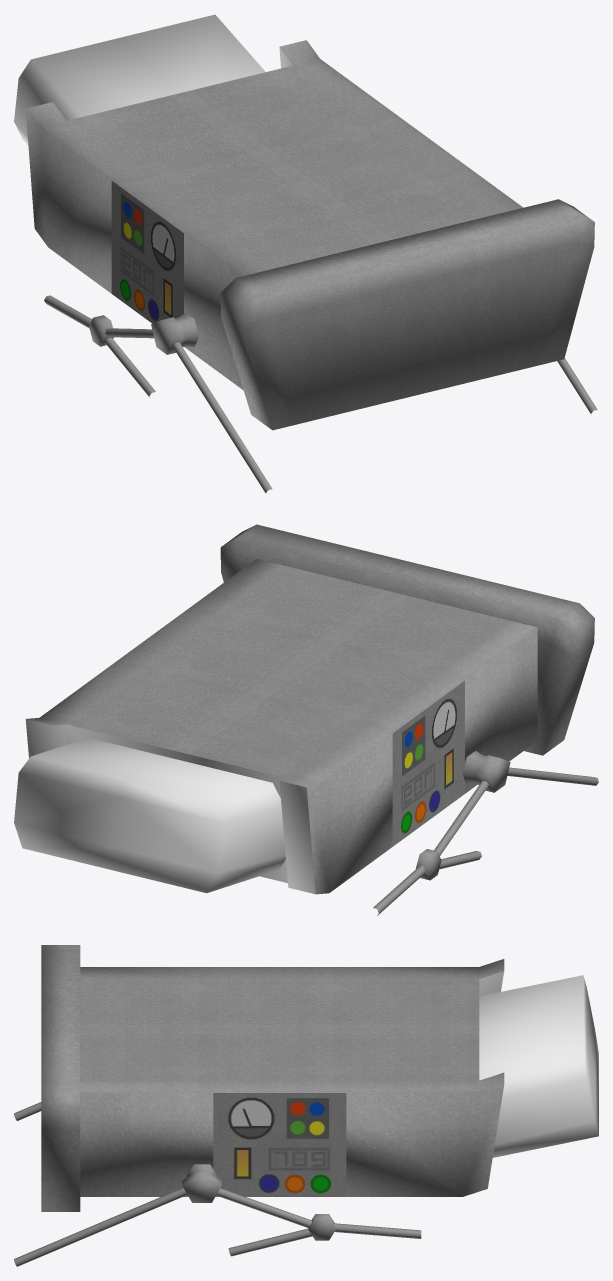
File: curiosity.glb
3 views of the same model, one above another, from view 1: azimuth 30°, elevation 25°; view 2: azimuth 150°, elevation 25°; view 3: azimuth 270°, elevation 25° (orthographic). The views are drawn at different scales.
Visible parts, largest first — view 1: marsrobot5.jpg__, ___, marsrobot4.jpg__; view 2: marsrobot5.jpg__, ___, marsrobot4.jpg__; view 3: marsrobot5.jpg__, ___, marsrobot4.jpg__.
Part boxes in pixels (x1=…): marsrobot5.jpg__: x1=25, y1=40, x2=597, y2=493; ___: x1=14, y1=14, x2=292, y2=145; marsrobot4.jpg__: x1=111, y1=181, x2=183, y2=323; marsrobot5.jpg__: x1=27, y1=524, x2=598, y2=915; ___: x1=14, y1=719, x2=315, y2=894; marsrobot4.jpg__: x1=392, y1=681, x2=464, y2=846; marsrobot5.jpg__: x1=14, y1=945, x2=504, y2=1266; ___: x1=479, y1=971, x2=598, y2=1157; marsrobot4.jpg__: x1=213, y1=1093, x2=346, y2=1196.
Size of the model in its own units: 1.69 by 0.879 by 2.64.
Materials: 3 (2 with a texture image).
